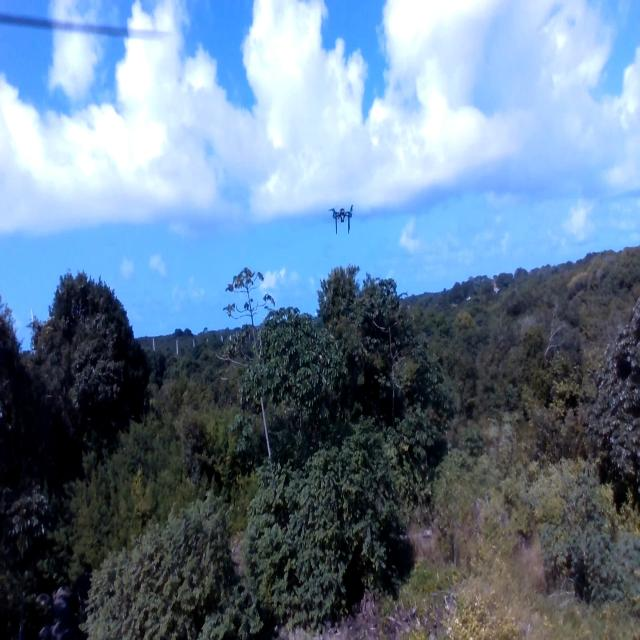-uav-: (326, 196, 356, 237)
